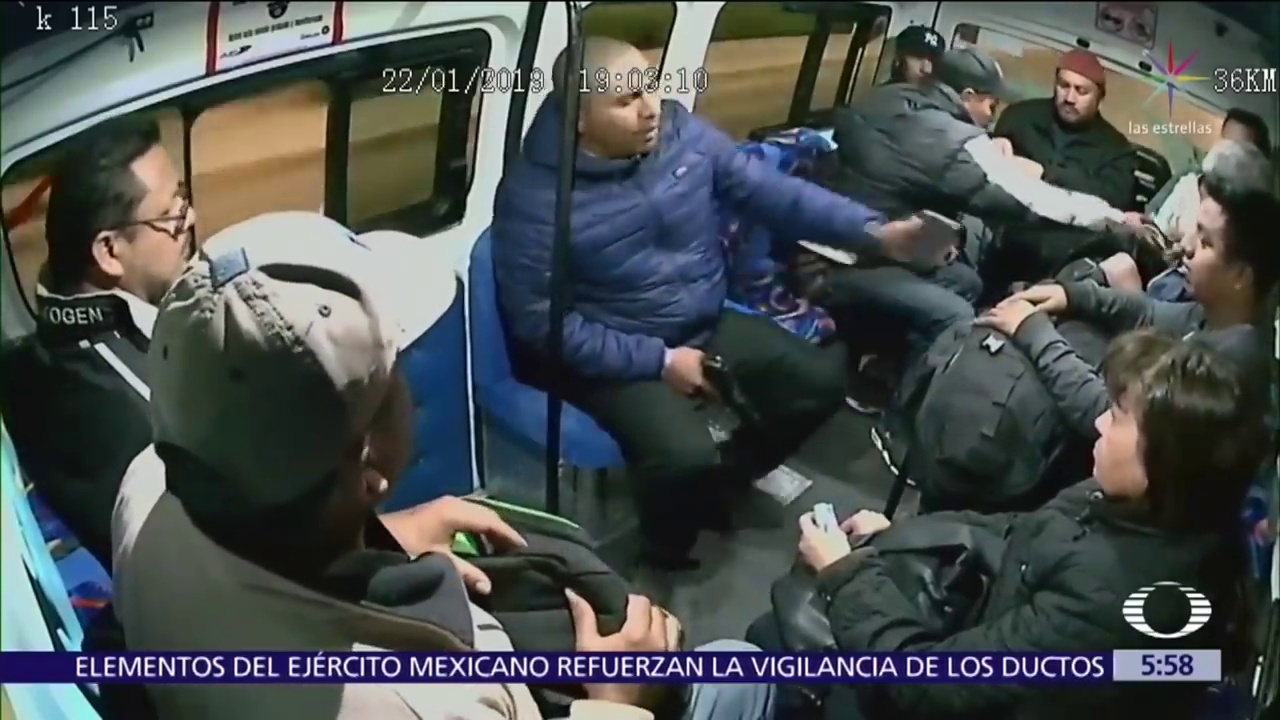pistol: (693, 355, 763, 425)
